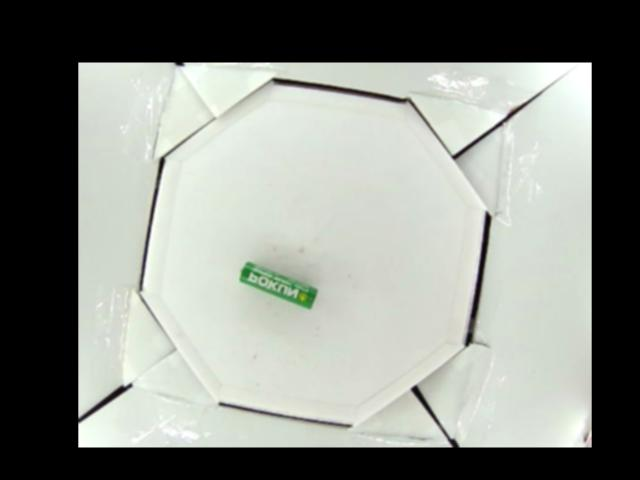Battery: (237, 262, 318, 306)
